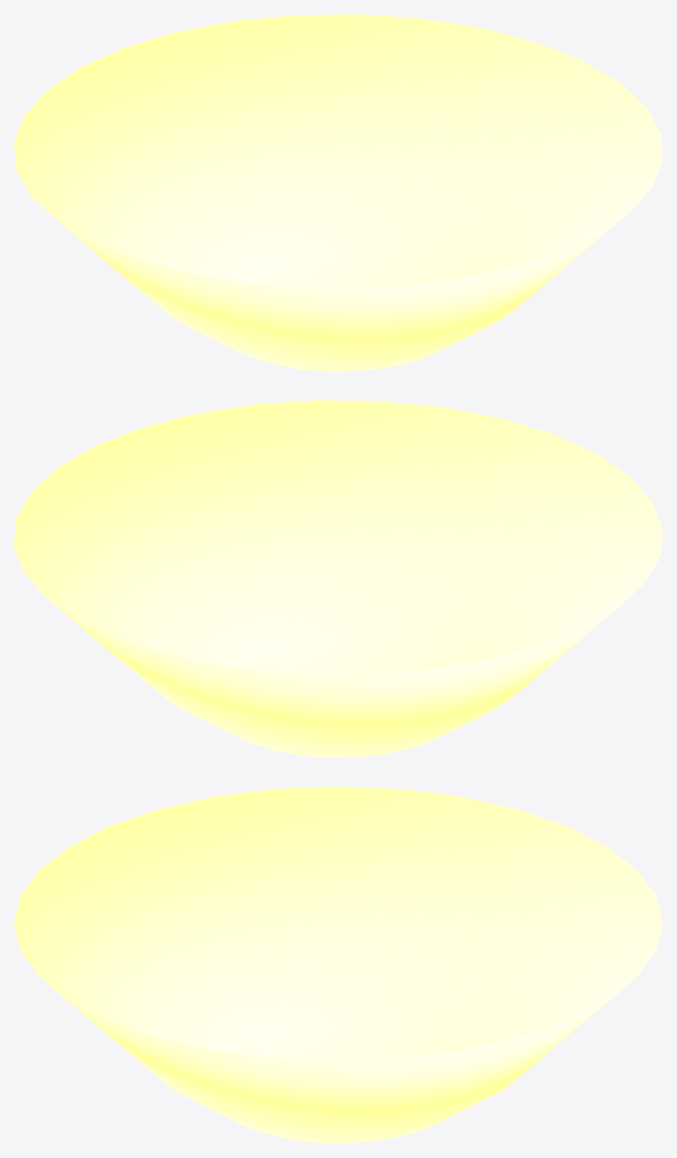
Rendered from lightcone.glb.
The picture shows the model from 3 angles, top to bottom: view 1: azimuth 30°, elevation 25°; view 2: azimuth 150°, elevation 25°; view 3: azimuth 270°, elevation 25°; orthographic projection.
Visible parts, largest first — view 1: Cone; view 2: Cone; view 3: Cone.
Part boxes in pixels (x1,y1,x2,y2): Cone: (14,14,662,371); Cone: (14,400,662,757); Cone: (14,786,662,1143).
Size of the model in its own units: 2.77 by 0.7781 by 2.77.
